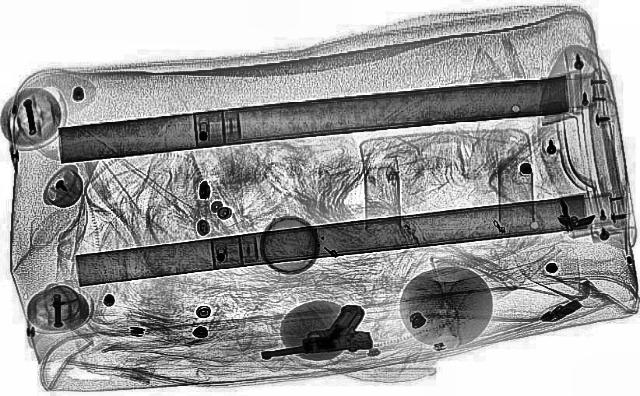Gun: (246, 304, 376, 360)
